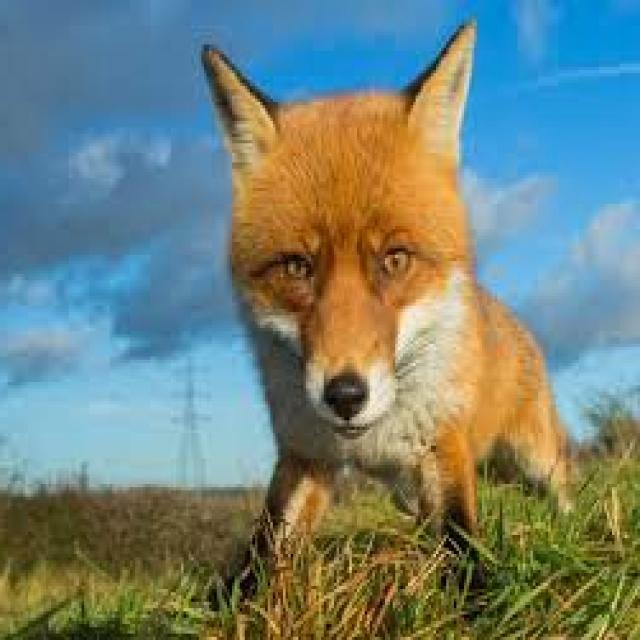fox: (204, 22, 571, 541)
